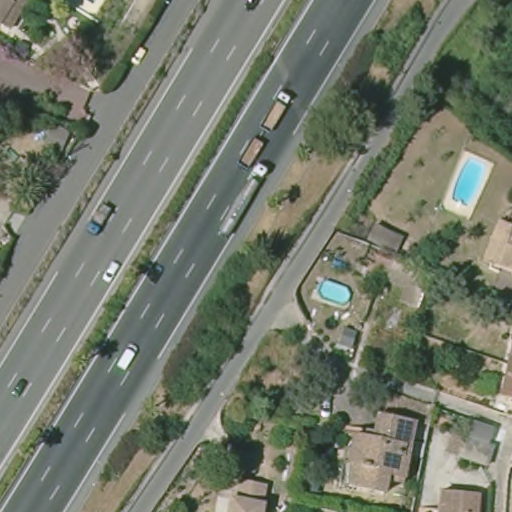pool: (443, 150, 495, 214), (314, 275, 357, 307)
